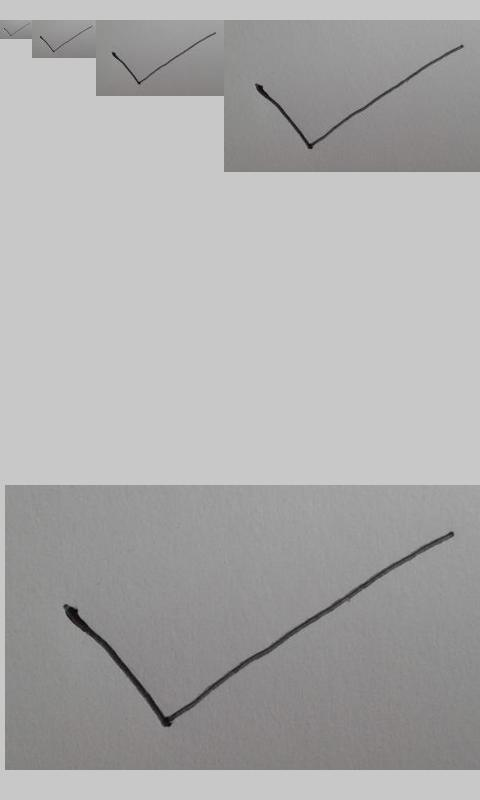check_box: (64, 533, 448, 726), (255, 45, 465, 149), (112, 32, 216, 85), (40, 25, 94, 52), (3, 23, 29, 37)
